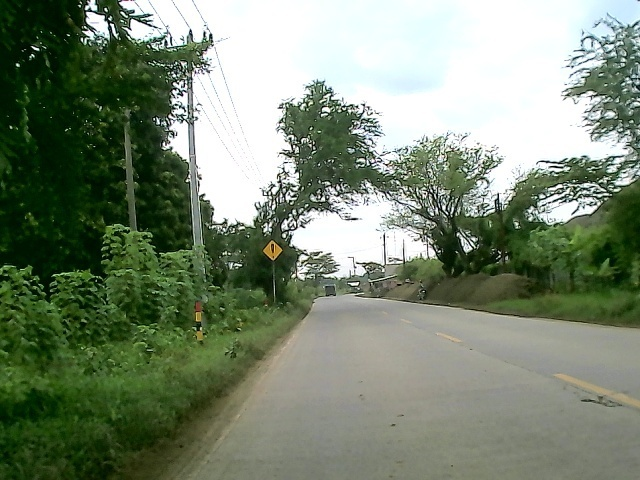Hati-hati: (261, 239, 284, 261)
